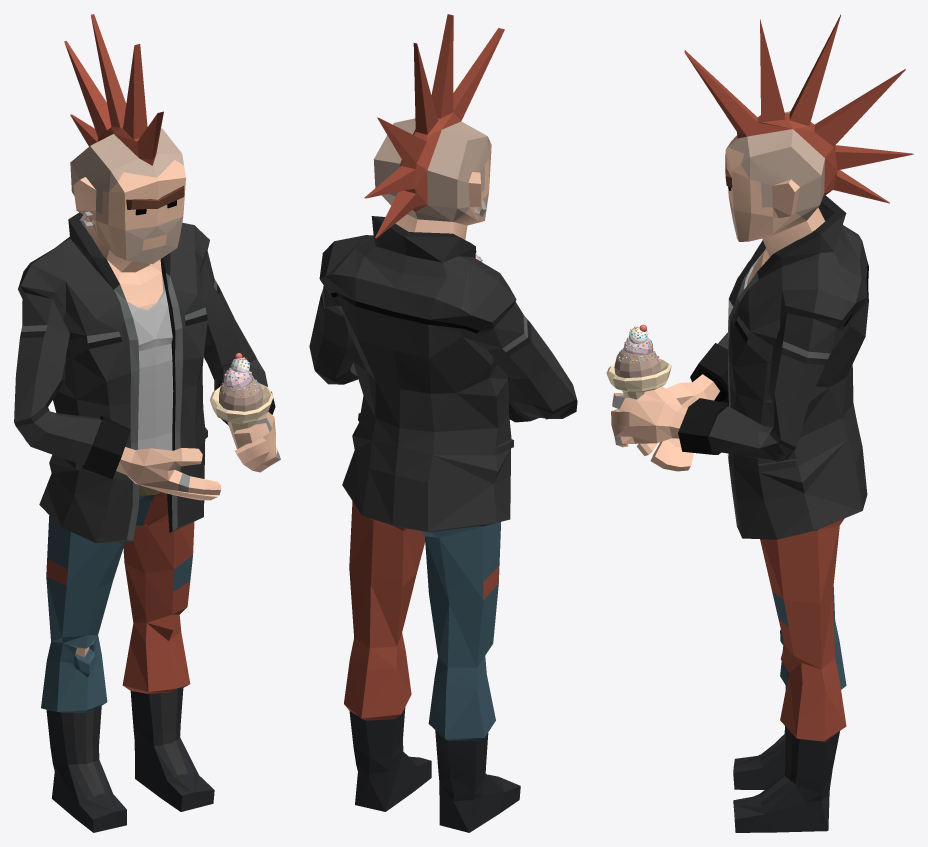
The model's file is Icecream Guy.fbx.
The picture shows the model from 3 angles, left to right: view 1: azimuth 30°, elevation 25°; view 2: azimuth 150°, elevation 25°; view 3: azimuth 270°, elevation 25°; orthographic projection.
Visible parts, largest first — view 1: Character_PunkGuy_02; view 2: Character_PunkGuy_02; view 3: Character_PunkGuy_02.
Boxes of the visible parts, left/top/right/bottom form: Character_PunkGuy_02: left=14, top=14, right=280, bottom=832; Character_PunkGuy_02: left=309, top=14, right=577, bottom=832; Character_PunkGuy_02: left=606, top=14, right=913, bottom=832.
Bounding box in the file's own units: 7.49 × 21.82 × 7.75.
Materials: 15 (1 with a texture image).
